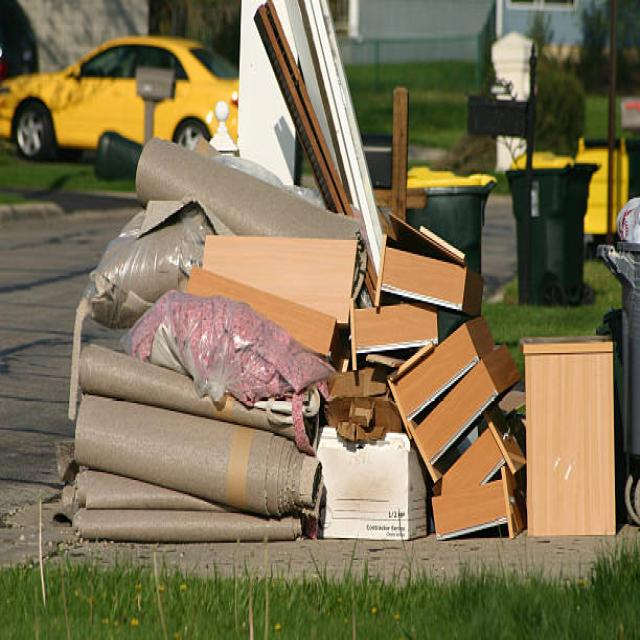cardboard: (320, 317, 613, 532), (159, 177, 375, 367)
plastic: (62, 364, 312, 557)
